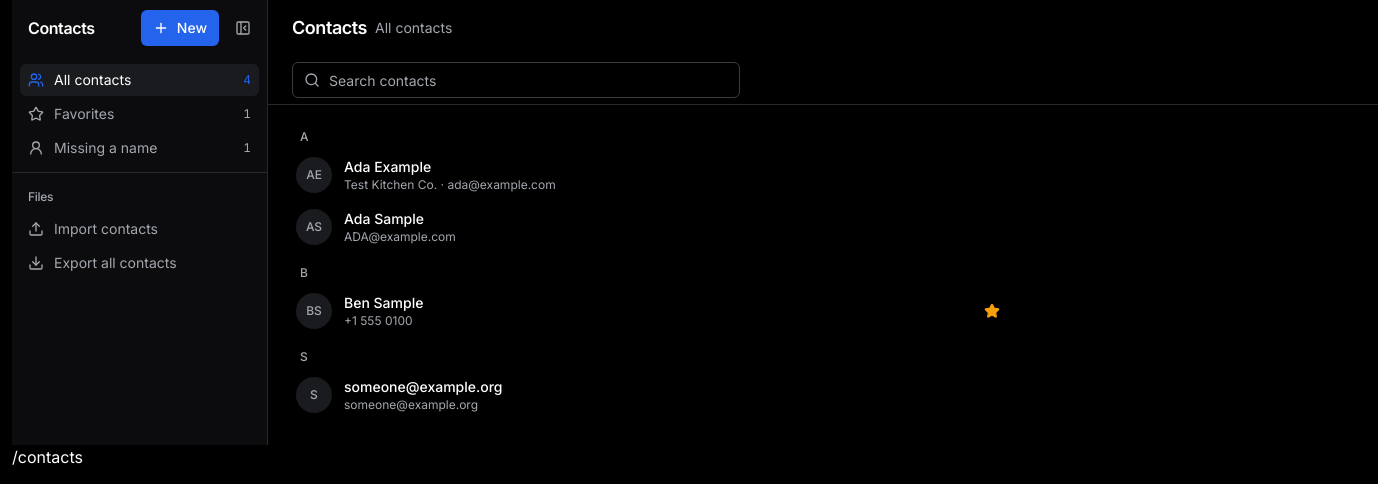
it: Contacts › opens a contact with its address as a link and composes in UniHub when that is the preference
The image size is (1378, 484).
Click the button "Ada Example Test Kitchen Co. · ada@example.com". click: (388,166)
box: 344,149 -> 964,201
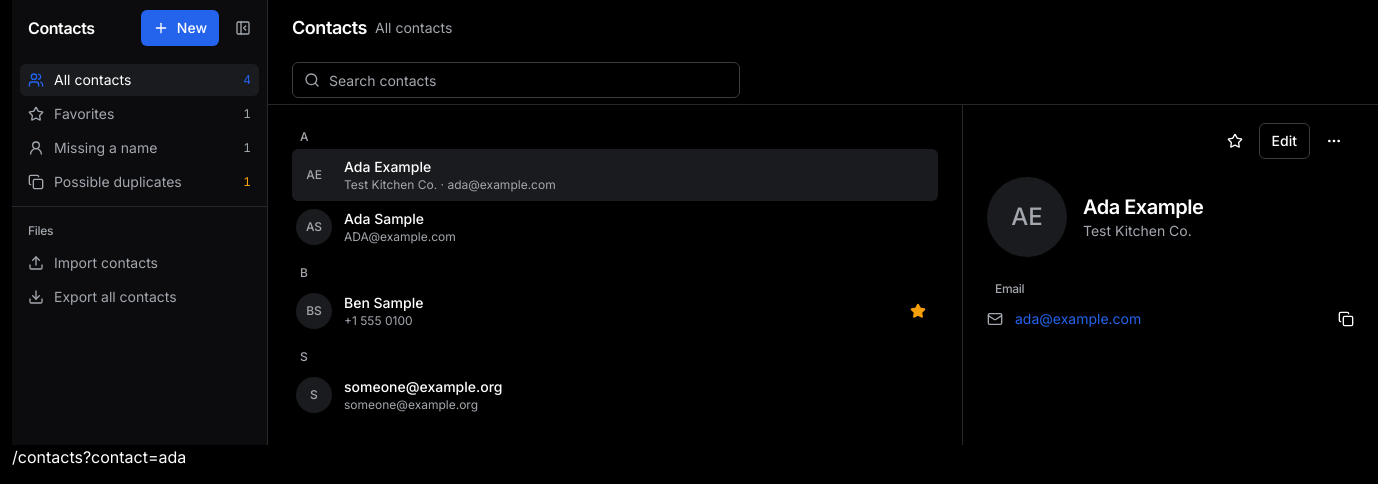
Click the link "ada@example.com". click: (1064,318)
box: 987,310 -> 1141,327
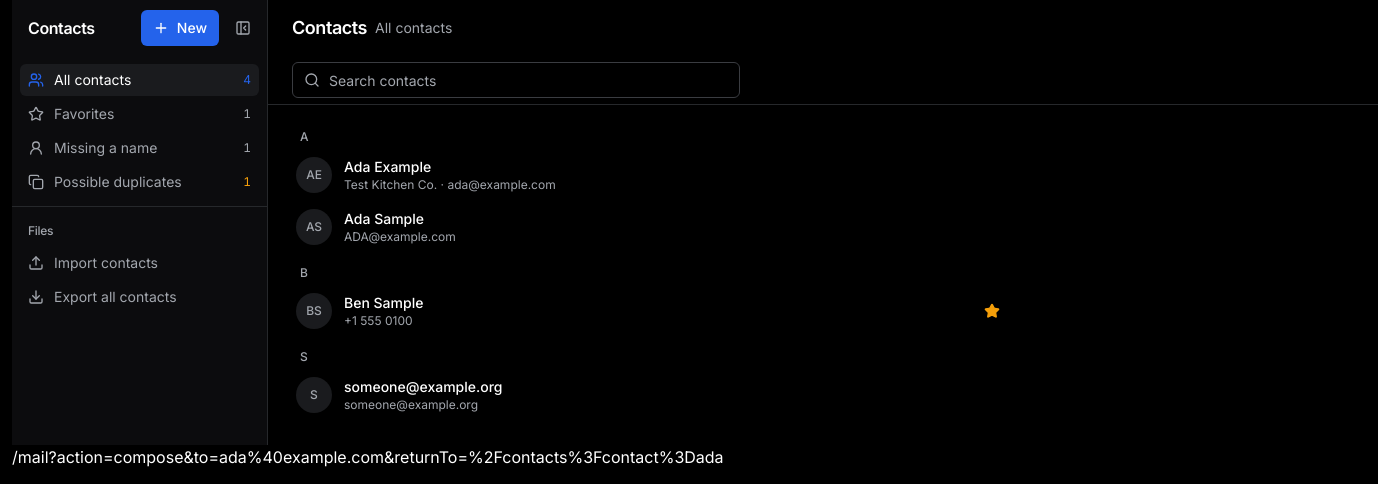
Check: the text with test id "location" shows "/mail?action=compose&to=ada%40example.com", box 12,447 -> 724,467
